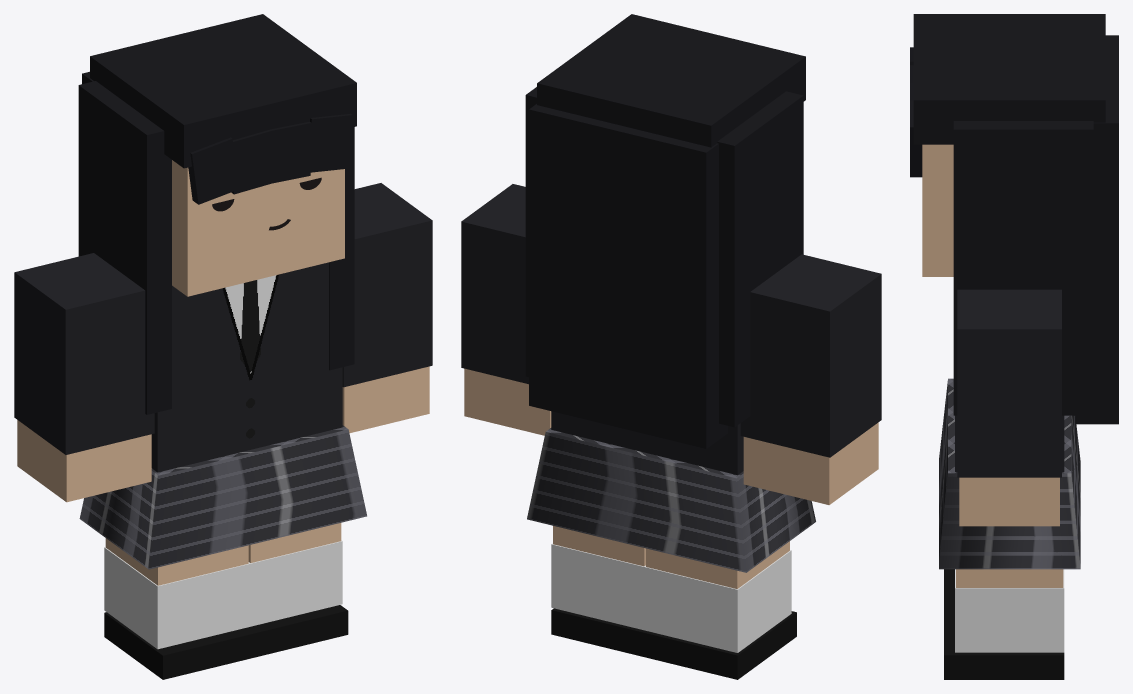
The model's file is goth_girl.glb.
The picture shows the model from 3 angles, left to right: view 1: azimuth 30°, elevation 25°; view 2: azimuth 150°, elevation 25°; view 3: azimuth 270°, elevation 25°; orthographic projection. The views are drawn at different scales.
Visible parts, largest first — view 1: head, torso, arm_R, arm_L, leg_R, leg_L; view 2: head, arm_R, torso, leg_R, arm_L, leg_L; view 3: head, arm_L, leg_L, torso, leg_R.
Boxes of the visible parts, box(x1,y1,x2,y2) form: head: box(78, 14, 356, 414); torso: box(79, 262, 366, 569); arm_R: box(14, 253, 154, 502); arm_L: box(342, 183, 432, 433); leg_R: box(104, 538, 255, 679); leg_L: box(248, 523, 348, 657); head: box(525, 14, 805, 448); arm_R: box(740, 254, 881, 504); torso: box(527, 411, 815, 572); leg_R: box(644, 541, 796, 679); arm_L: box(461, 184, 551, 435); leg_L: box(551, 526, 646, 656); head: box(910, 14, 1118, 424); arm_L: box(957, 289, 1061, 526); leg_L: box(944, 569, 1064, 679); torso: box(939, 378, 1080, 569); leg_R: box(944, 569, 954, 608).
Size of the model in its own units: 0.99 by 1.46 by 0.478.
Materials: 10 (3 with a texture image).
